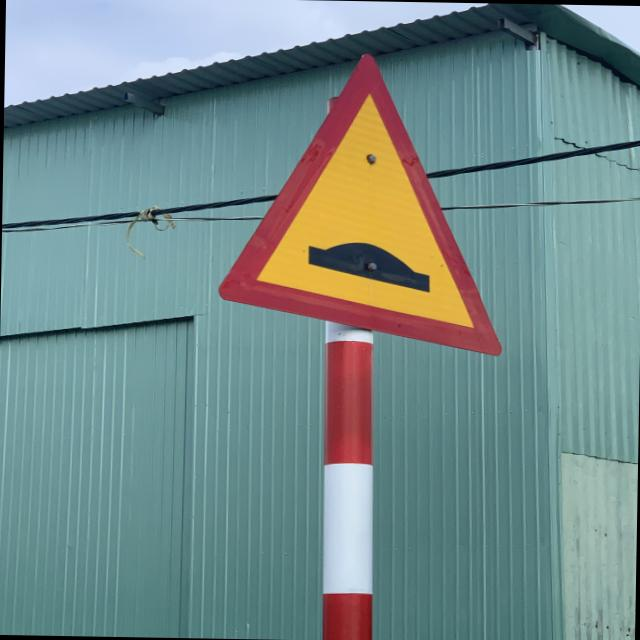Duong_Cong_Ben_Phai: (214, 49, 508, 355)
